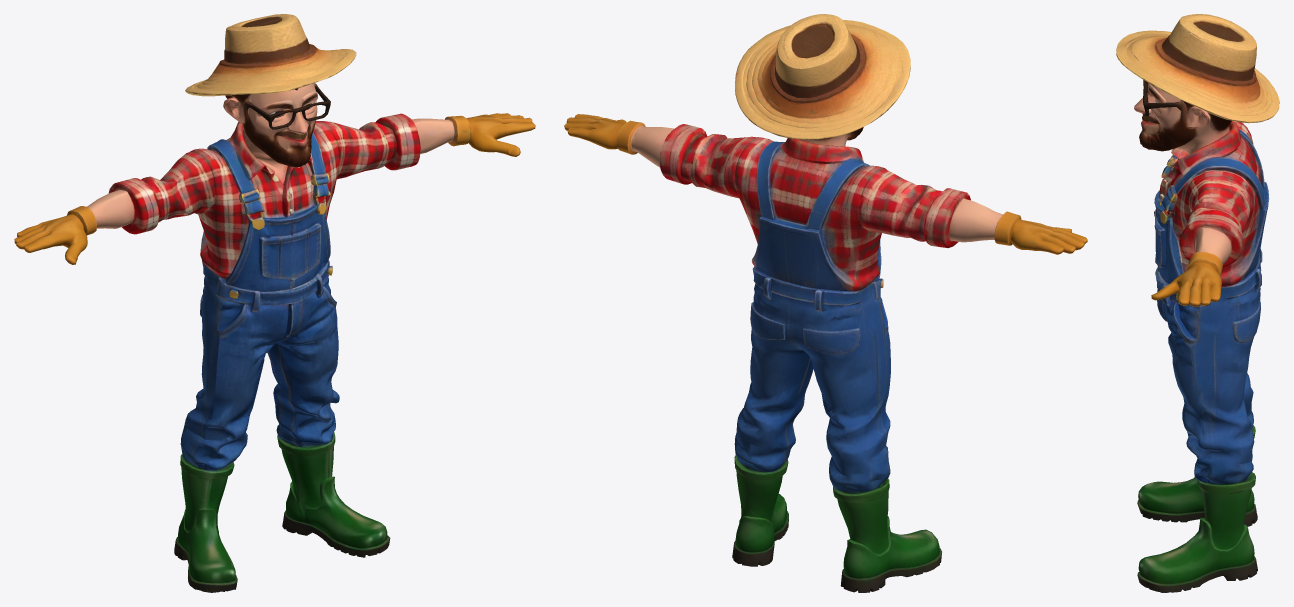
File: charFarmer.glb
3 renders of one model, left to right at view 1: azimuth 30°, elevation 25°; view 2: azimuth 150°, elevation 25°; view 3: azimuth 270°, elevation 25°, orthographic.
Visible parts, largest first — view 1: model; view 2: model; view 3: model.
Boxes of the visible parts, bbox=[...] form: model: bbox=[14, 14, 535, 592]; model: bbox=[564, 14, 1087, 592]; model: bbox=[1116, 14, 1279, 592].
Bounding box in the file's own units: 1.9 × 1.89 × 0.5279.
1 material, 1 textured.
